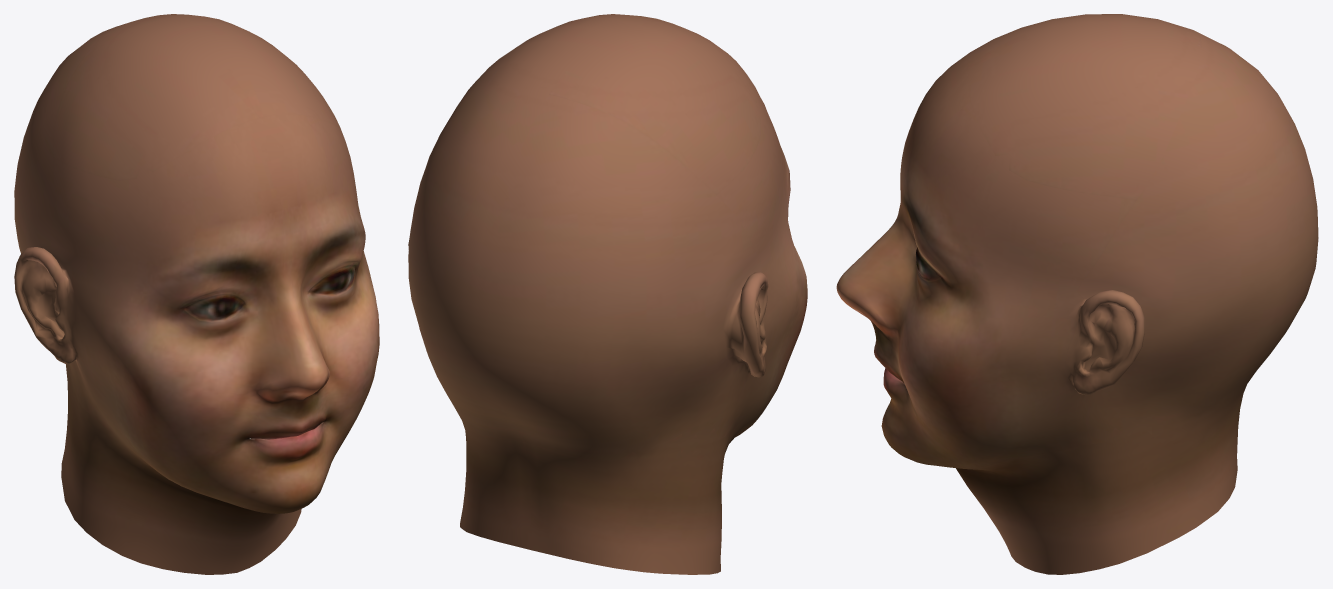
The picture shows the model from 3 angles, left to right: view 1: azimuth 30°, elevation 25°; view 2: azimuth 150°, elevation 25°; view 3: azimuth 270°, elevation 25°; orthographic projection. The views are drawn at different scales.
Visible parts, largest first — view 1: HeadHires; view 2: HeadHires; view 3: HeadHires.
Boxes of the visible parts, box(x1,y1,x2,y2) form: HeadHires: box(14, 14, 379, 574); HeadHires: box(408, 14, 807, 574); HeadHires: box(836, 14, 1318, 574).
Size of the model in its own units: 189 by 284 by 237.
1 material, 1 textured.
